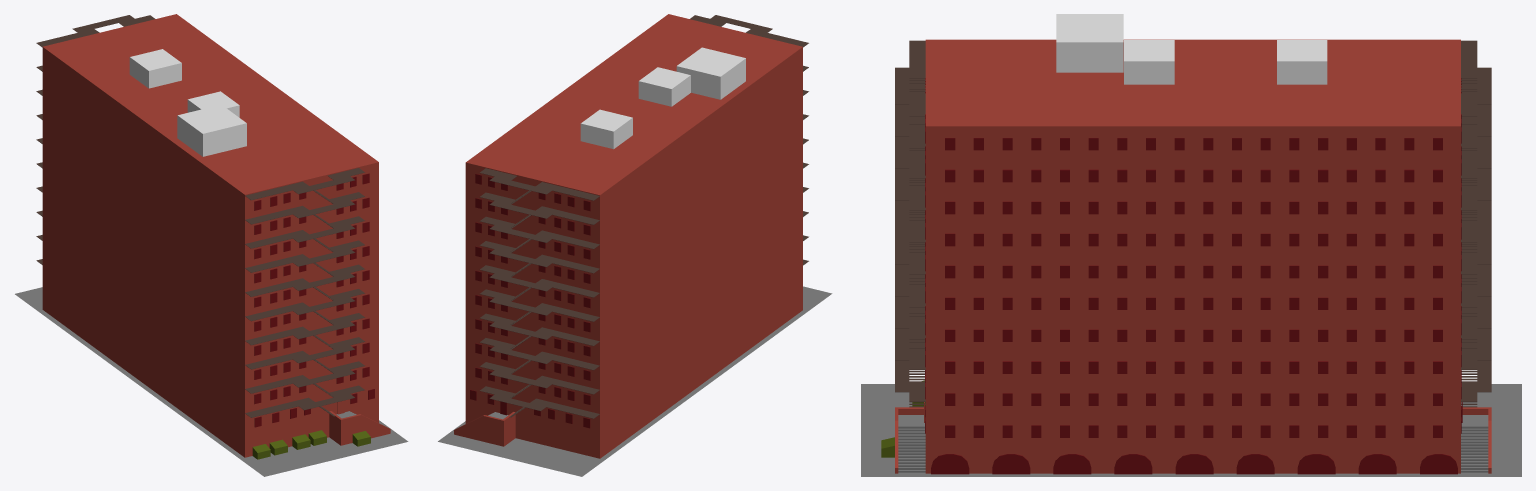
Rendered from 3x1_Apartments.glb.
The picture shows the model from 3 angles, left to right: view 1: azimuth 30°, elevation 25°; view 2: azimuth 150°, elevation 25°; view 3: azimuth 270°, elevation 25°; orthographic projection. The views are drawn at different scales.
Visible parts, largest first — view 1: 3x1_Apatments.col; view 2: 3x1_Apatments.col; view 3: 3x1_Apatments.col.
Part boxes in pixels (<box>): 3x1_Apatments.col: <box>15,14,408,476</box>; 3x1_Apatments.col: <box>438,14,832,476</box>; 3x1_Apatments.col: <box>861,14,1521,476</box>.
Size of the model in its own units: 20 by 37.9 by 60.
